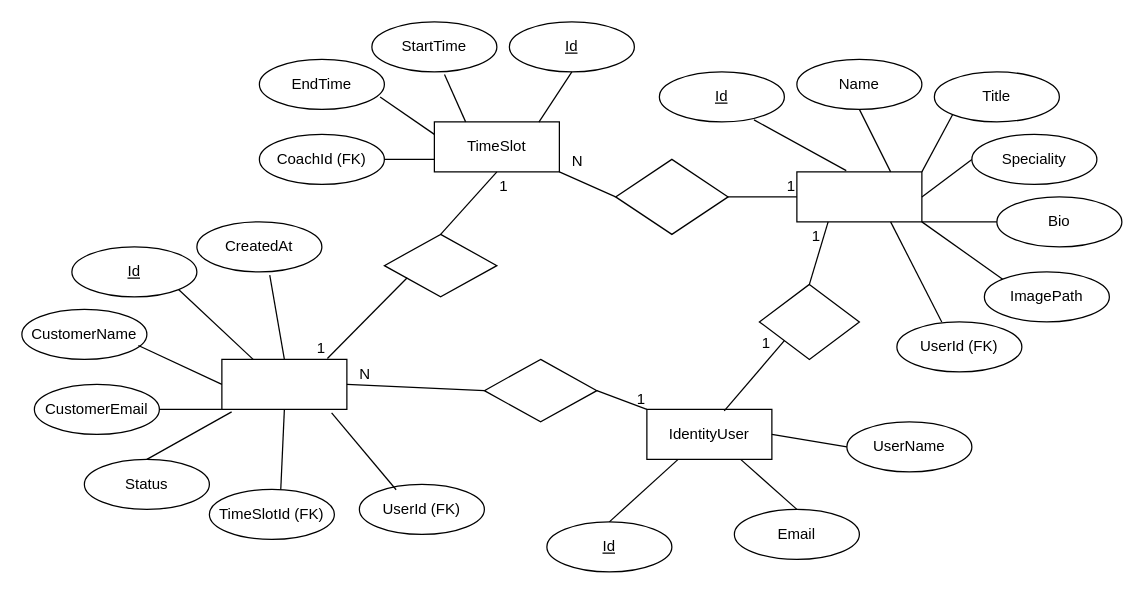
The diagram is 1144 pixels wide and 594 high, and some of its shapes have lost their labels. The centre of each missing label's shape, as x and y in pixels:
"Booking" belongs at point (284, 383).
"books" belongs at point (540, 390).
"Coach" belongs at point (859, 196).
"contains" belongs at point (440, 265).
"has" belongs at point (671, 196).
"is linked to" belongs at point (808, 321).
